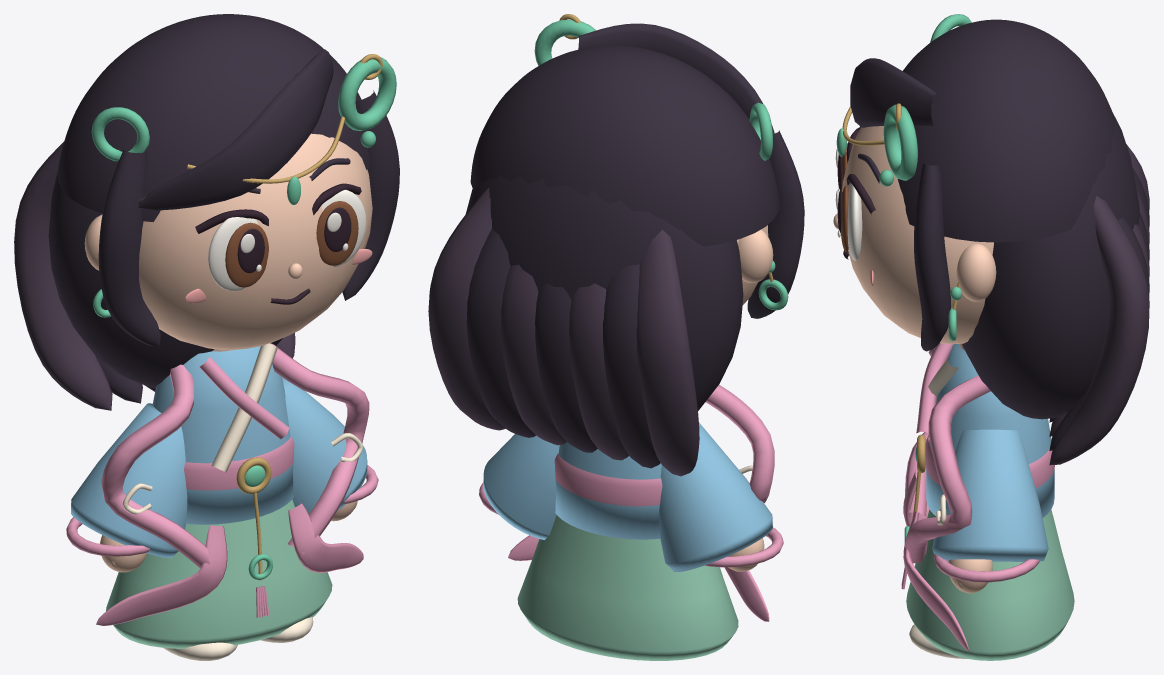
File: nuwa.glb
3 renders of one model, left to right at view 1: azimuth 30°, elevation 25°; view 2: azimuth 150°, elevation 25°; view 3: azimuth 270°, elevation 25°, orthographic. The views are drawn at different scales.
Parts seen in each view (by area): view 1: Ink plum hair, Warm porcelain, Moon blue silk, Rose silk, Jade skirt, Hair satin, Celadon jade, Ivory embroidery, Eyes and brows, Eye highlights, Amber eyes, Champagne gold; view 2: Ink plum hair, Hair satin, Jade skirt, Moon blue silk, Rose silk, Celadon jade, Warm porcelain; view 3: Ink plum hair, Moon blue silk, Warm porcelain, Jade skirt, Rose silk, Hair satin, Celadon jade, Ivory embroidery, Eye highlights, Champagne gold, Eyes and brows, Amber eyes.
Part boxes in pixels (box(x1,y1,x2,y2)): Ink plum hair: box(48, 14, 399, 403); Warm porcelain: box(84, 133, 372, 572); Moon blue silk: box(71, 346, 367, 557); Rose silk: box(66, 343, 378, 625); Jade skirt: box(106, 499, 332, 648); Hair satin: box(14, 142, 295, 410); Celadon jade: box(91, 57, 396, 579); Ivory embroidery: box(122, 343, 362, 660); Eyes and brows: box(195, 183, 361, 304); Eye highlights: box(208, 189, 366, 291); Amber eyes: box(225, 201, 358, 287); Champagne gold: box(187, 54, 382, 580); Ink plum hair: box(466, 23, 804, 468); Hair satin: box(428, 188, 699, 476); Jade skirt: box(517, 515, 738, 660); Moon blue silk: box(483, 422, 772, 572); Rose silk: box(479, 384, 783, 621); Celadon jade: box(534, 19, 788, 310); Warm porcelain: box(728, 225, 773, 571); Ink plum hair: box(850, 19, 1149, 450); Moon blue silk: box(926, 344, 1054, 561); Warm porcelain: box(833, 126, 996, 593); Jade skirt: box(906, 509, 1074, 660); Rose silk: box(901, 343, 1054, 650); Hair satin: box(931, 104, 1149, 465); Celadon jade: box(836, 14, 971, 543); Ivory embroidery: box(909, 359, 966, 658); Eye highlights: box(835, 149, 862, 260); Champagne gold: box(842, 103, 959, 518); Eyes and brows: box(837, 128, 875, 259); Amber eyes: box(841, 143, 848, 251).
Size of the model in its own units: 0.6209 by 1.2 by 0.5737.
